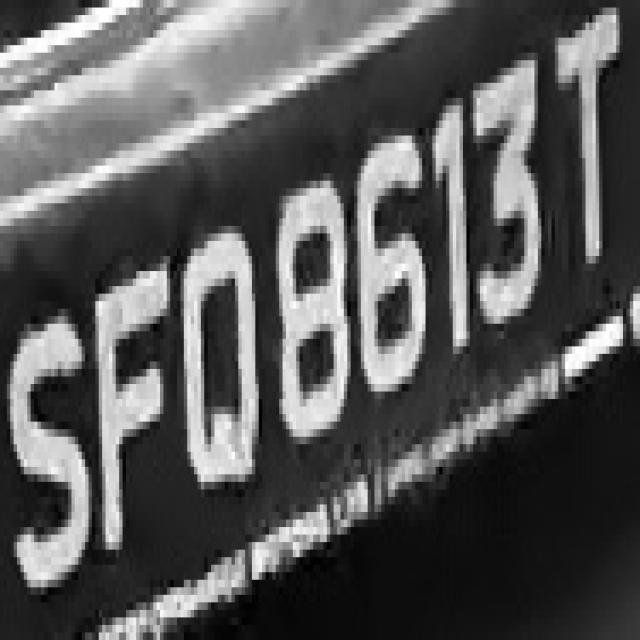1: (432, 90, 477, 392)
3: (470, 60, 544, 354)
6: (340, 106, 432, 444)
8: (269, 136, 354, 452)
F: (78, 233, 180, 572)
Q: (170, 218, 266, 542)
S: (7, 271, 88, 617)
T: (541, 15, 637, 286)
